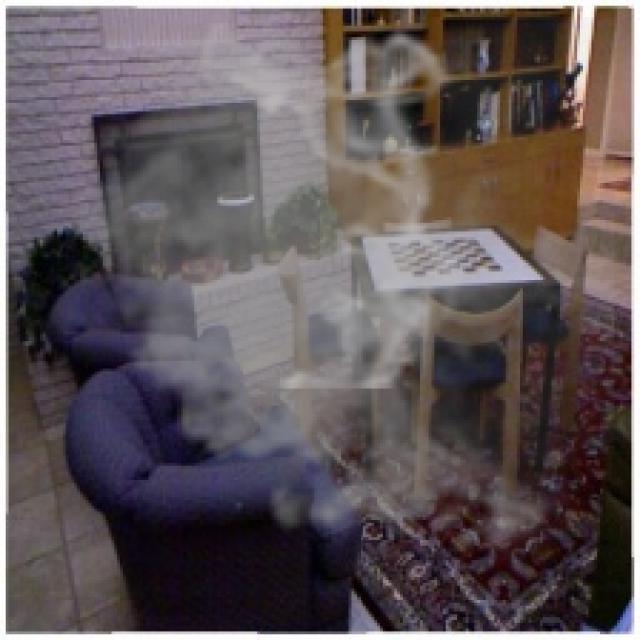Smoke: (51, 17, 614, 569)
